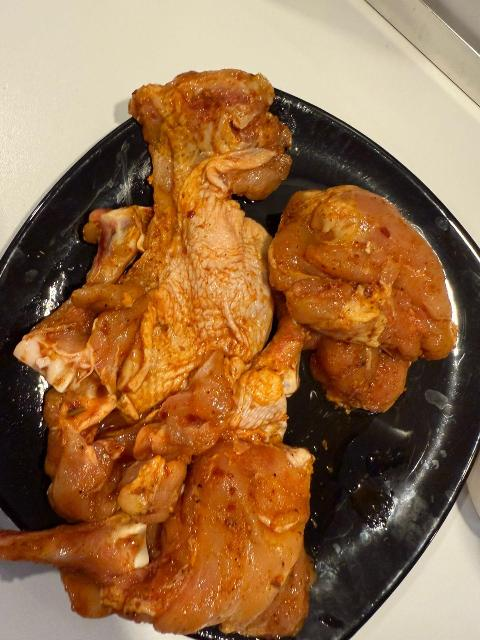Organik: (39, 89, 273, 479), (275, 191, 453, 396), (7, 217, 149, 396), (152, 473, 305, 619), (4, 523, 179, 612)
